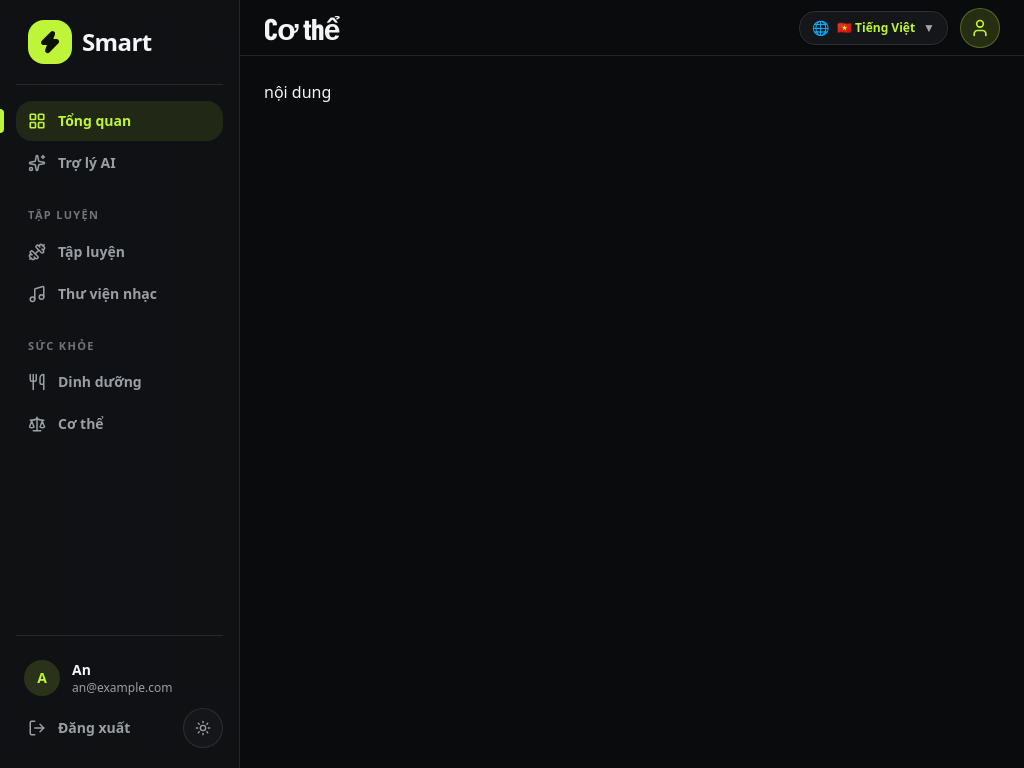
Test: AppShell › the profile button opens a menu with profile, change password and sign out
Click the button named "Tài khoản" at (980, 28), box [960,8,1000,48]
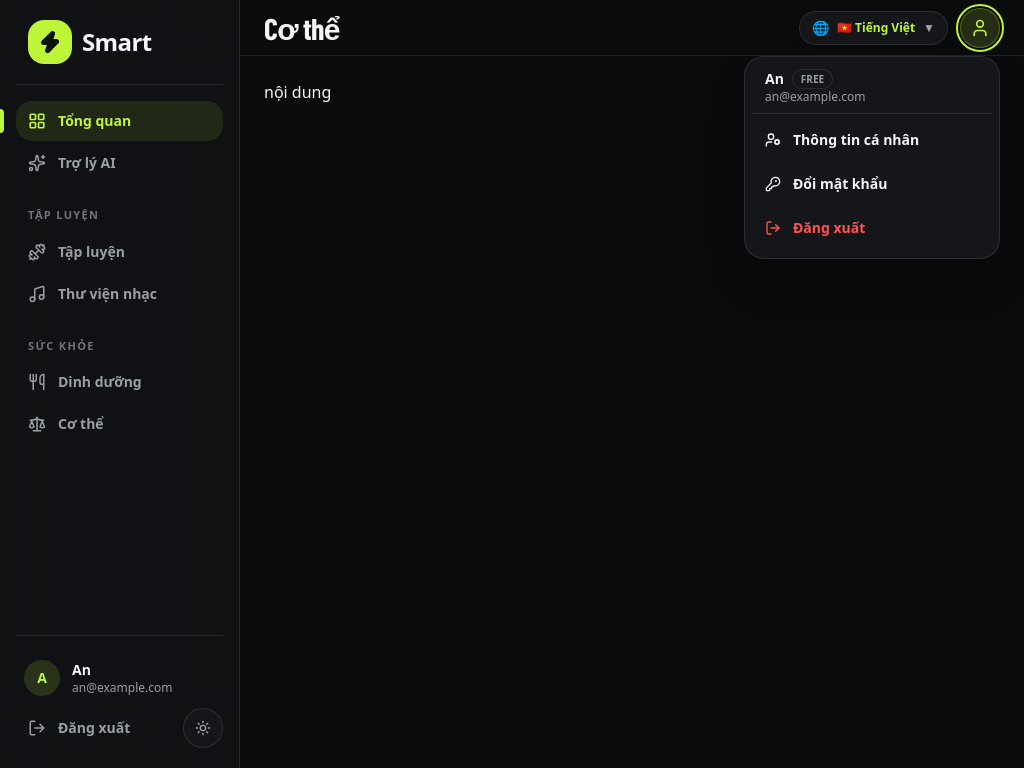
expect the menu item "Đổi mật khẩu" is shown: met, box [753,162,991,206]
expect the menu item "Đăng xuất" is shown: met, box [753,206,991,250]
